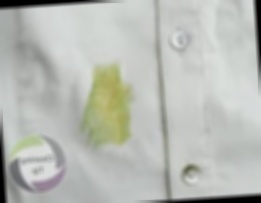earth: (79, 65, 132, 150)
